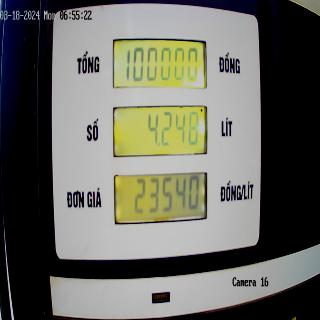screen: (112, 33, 210, 229)
